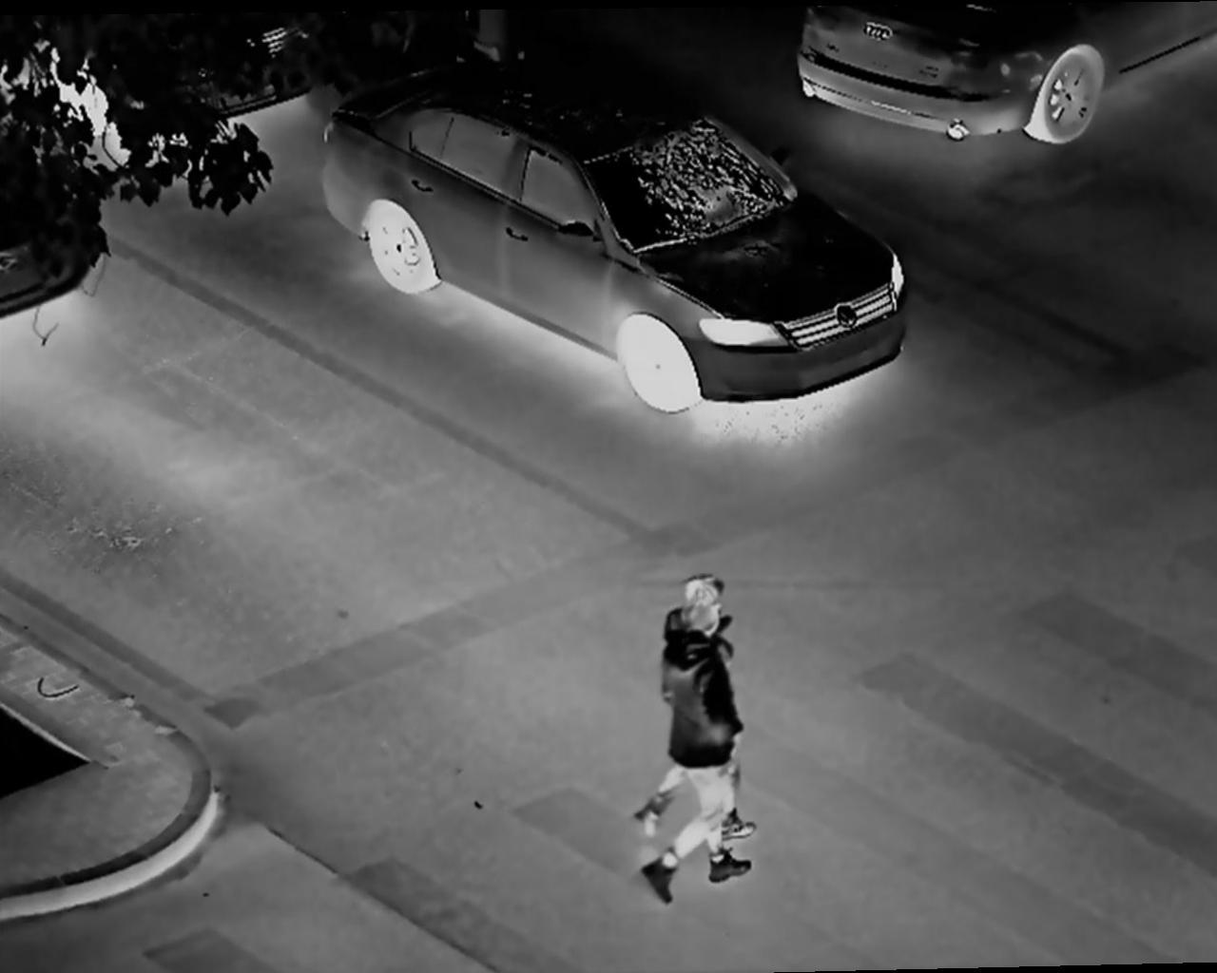person: (637, 574, 760, 841), (636, 617, 748, 903)
